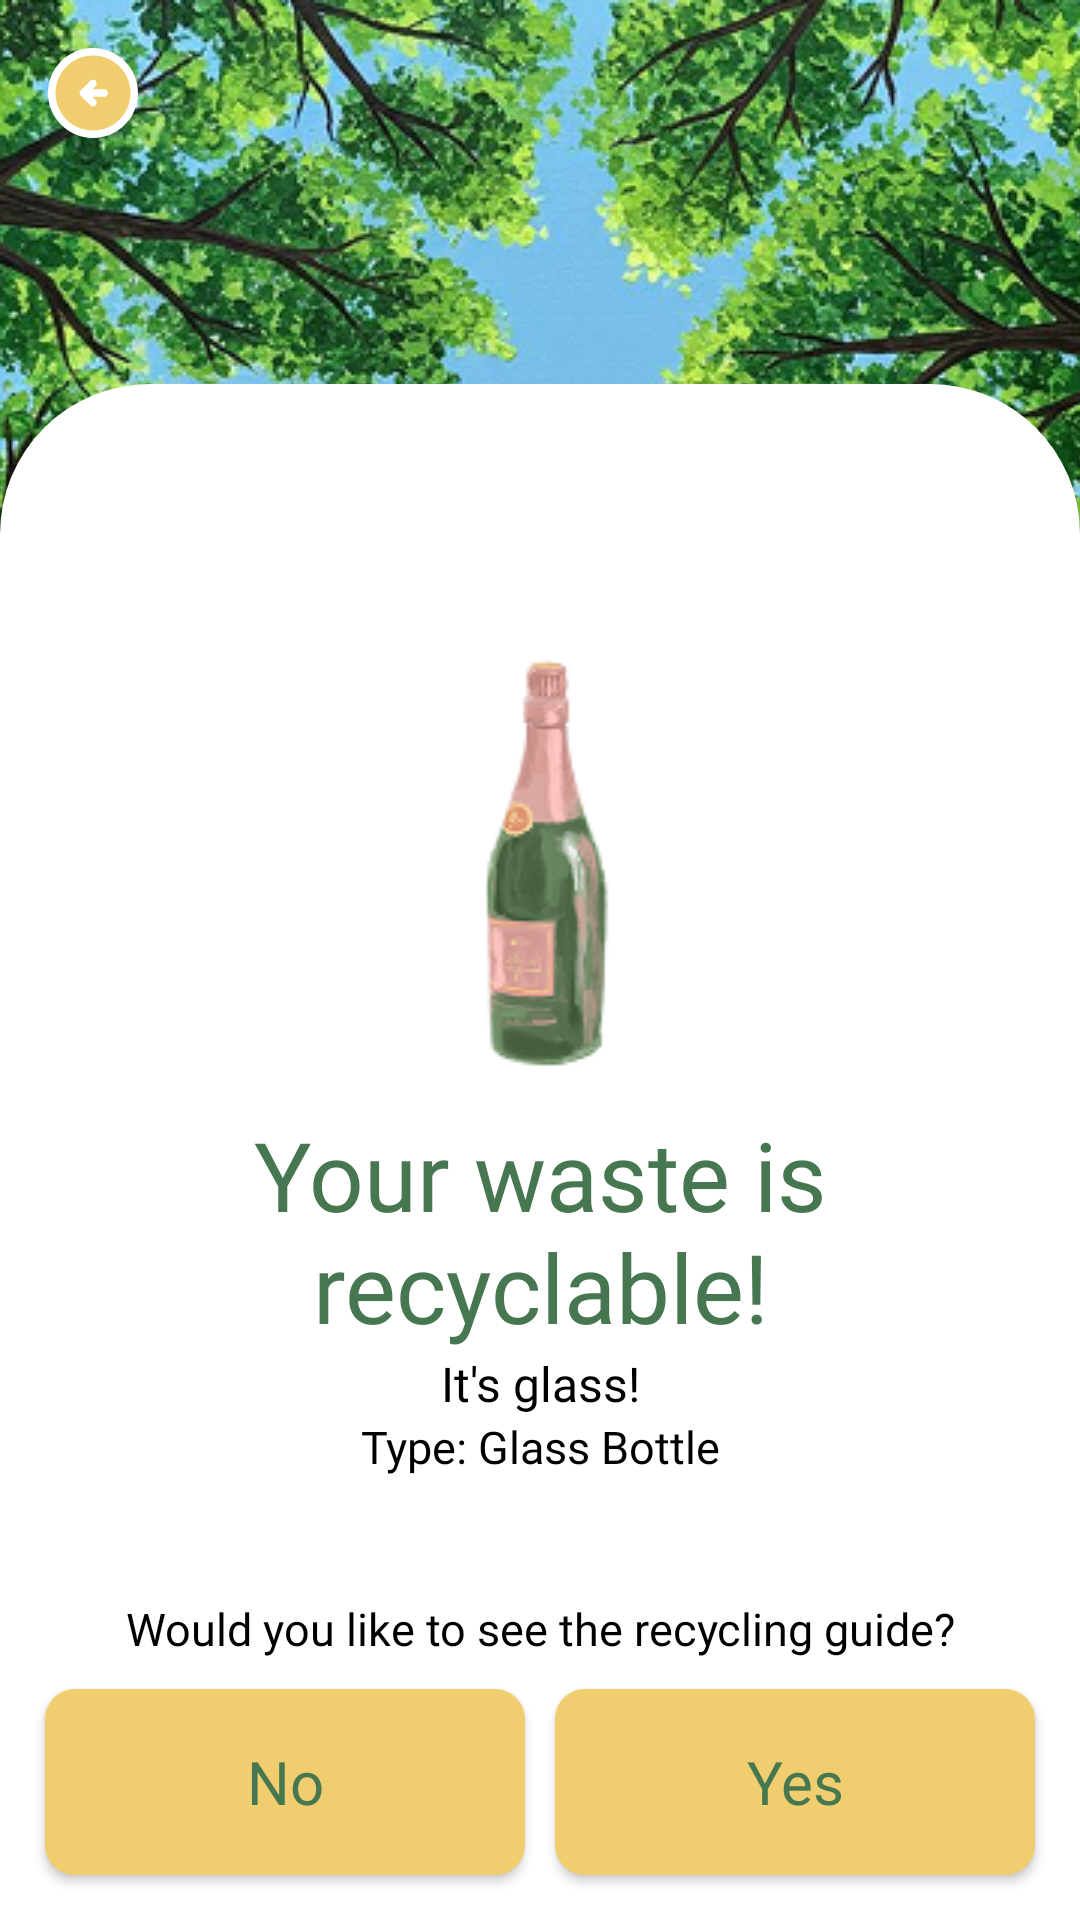

Screen size 1080w x 1920h. Icon name, then its center in pixels as point (x, y):
Back: point (93, 93)
